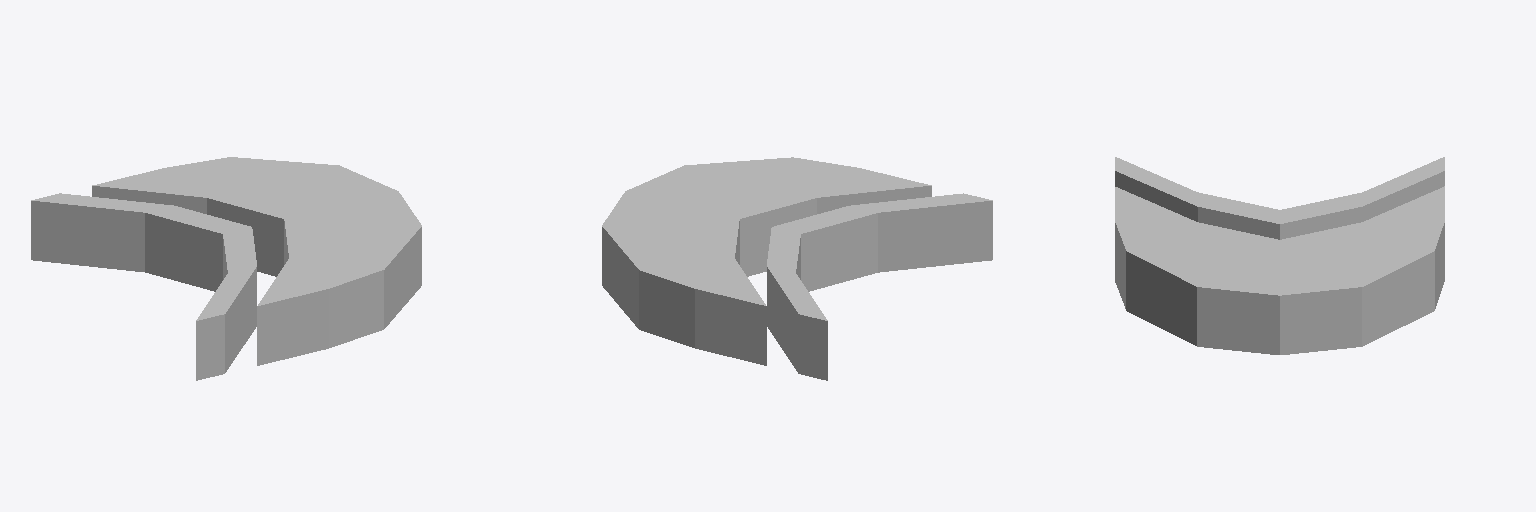
The model's file is XorGate.obj.
3 views of the same model, side by side, from view 1: azimuth 30°, elevation 25°; view 2: azimuth 150°, elevation 25°; view 3: azimuth 270°, elevation 25° (orthographic).
Visible parts, largest first — view 1: pasted__pCube11 group33, pasted__pasted__pCube11 pasted__group32 group35; view 2: pasted__pCube11 group33, pasted__pasted__pCube11 pasted__group32 group35; view 3: pasted__pCube11 group33, pasted__pasted__pCube11 pasted__group32 group35.
Boxes of the visible parts, x1=… form: pasted__pCube11 group33: x1=92, y1=157, x2=421, y2=365; pasted__pasted__pCube11 pasted__group32 group35: x1=31, y1=193, x2=256, y2=380; pasted__pCube11 group33: x1=602, y1=157, x2=931, y2=365; pasted__pasted__pCube11 pasted__group32 group35: x1=767, y1=193, x2=992, y2=380; pasted__pCube11 group33: x1=1115, y1=186, x2=1444, y2=354; pasted__pasted__pCube11 pasted__group32 group35: x1=1115, y1=157, x2=1444, y2=239.
Size of the model in its own units: 0.9983 by 0.2 by 1.